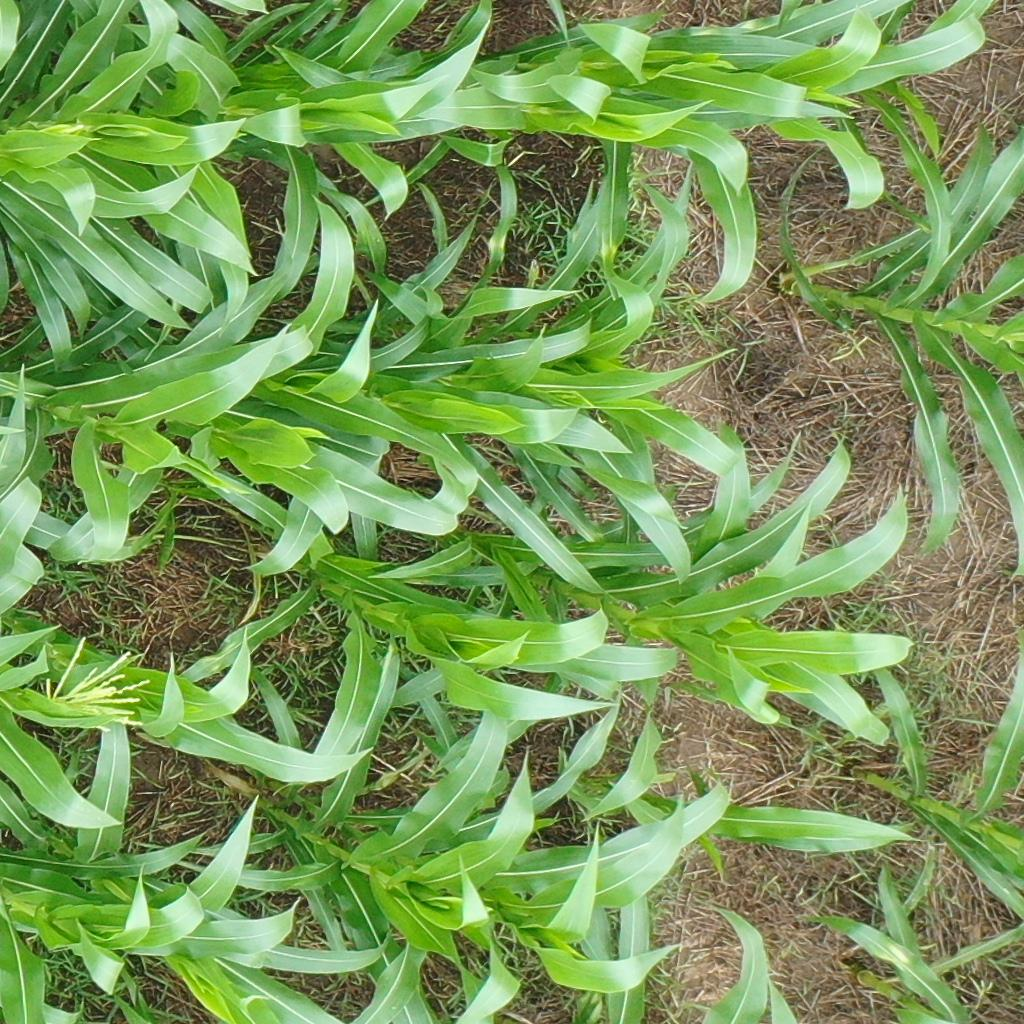Tassel: (37, 634, 154, 740)
